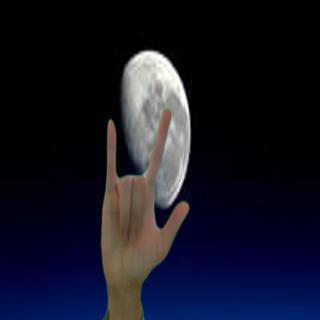ILY: (96, 106, 192, 294)
